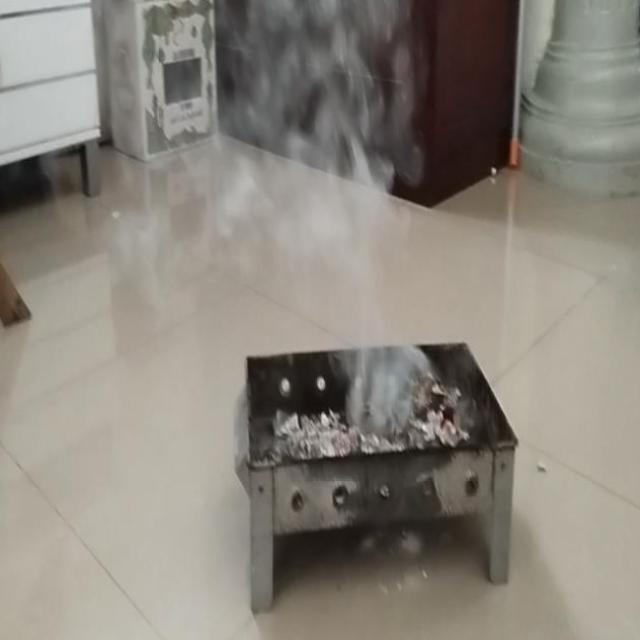fire: (104, 0, 420, 253), (316, 255, 431, 430)
